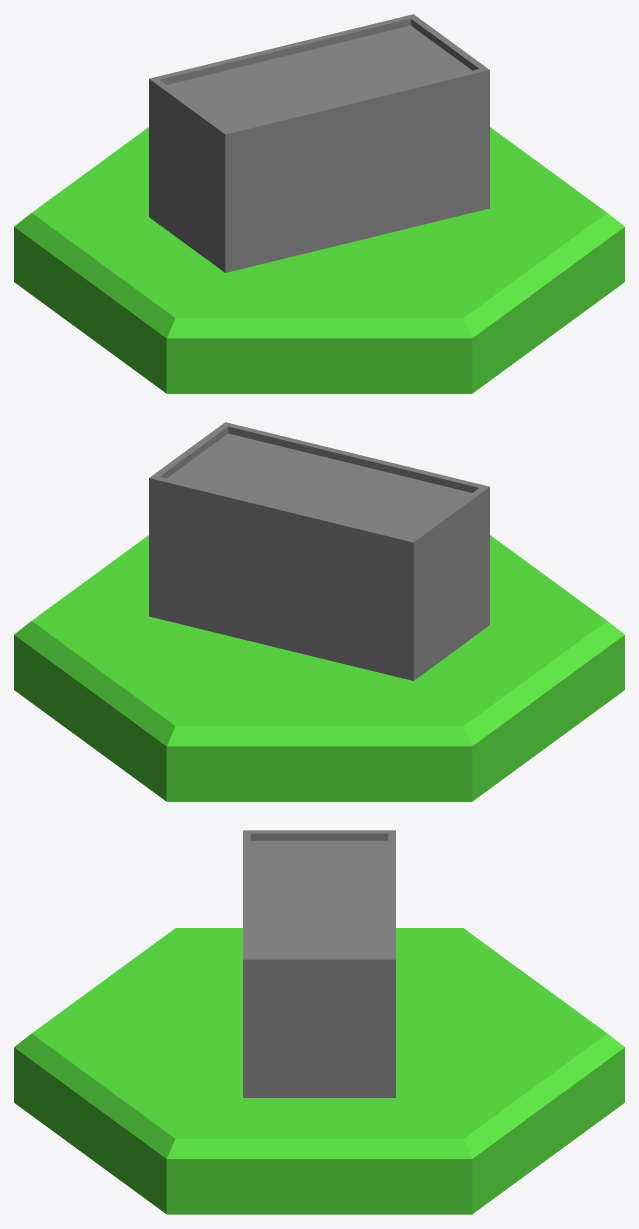
Rendered from tile_house_khrushchevka.fbx.
3 renders of one model, top to bottom at view 1: azimuth 30°, elevation 25°; view 2: azimuth 150°, elevation 25°; view 3: azimuth 270°, elevation 25°, orthographic.
Visible parts, largest first — view 1: Pad, Khrushchevka; view 2: Pad, Khrushchevka; view 3: Pad, Khrushchevka.
Boxes of the visible parts, left/top/right/bottom form: Pad: left=14, top=127, right=624, bottom=393; Khrushchevka: left=149, top=14, right=489, bottom=272; Pad: left=14, top=535, right=624, bottom=801; Khrushchevka: left=149, top=422, right=489, bottom=680; Pad: left=14, top=928, right=624, bottom=1214; Khrushchevka: left=243, top=830, right=395, bottom=1097.
Bounding box in the file's own units: 346 × 150 × 400.
